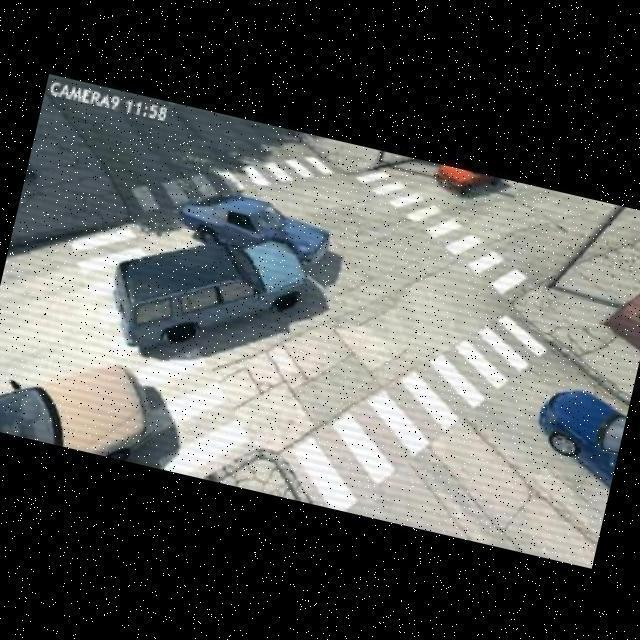accident: (88, 161, 344, 386)
